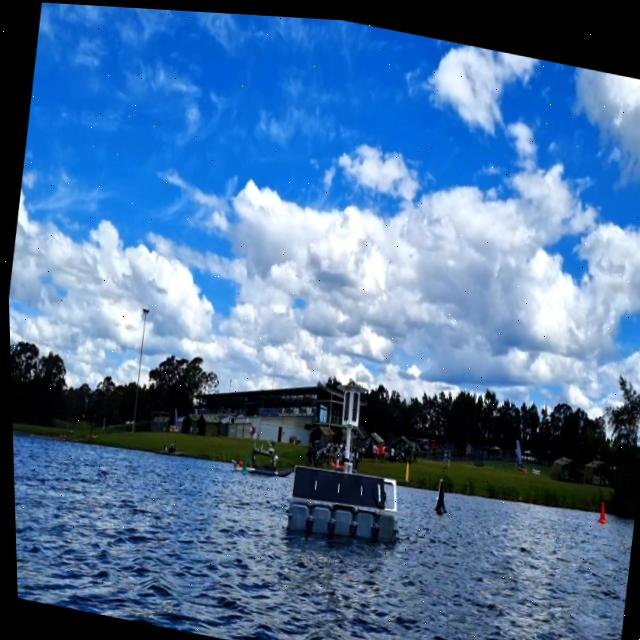led: (339, 385, 359, 421), (346, 387, 359, 420), (339, 386, 351, 418)
